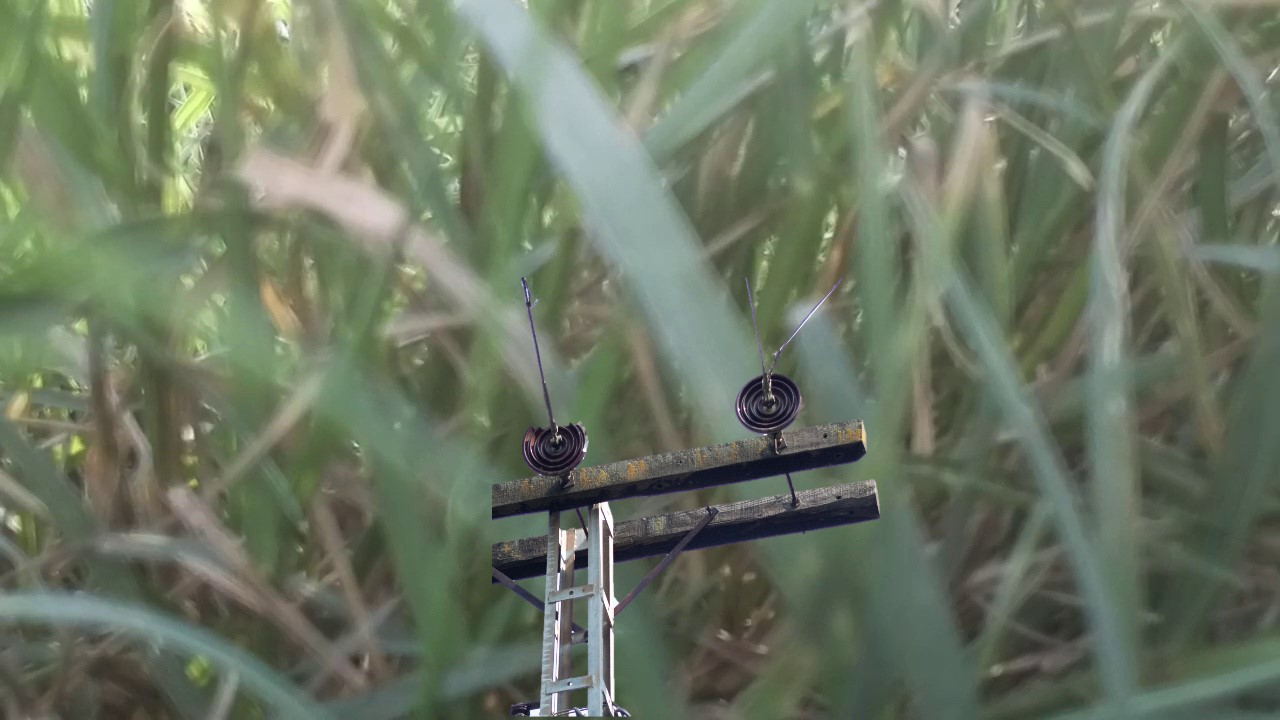defect_disc: (521, 404, 593, 480)
insulator_disc: (735, 370, 805, 437)
